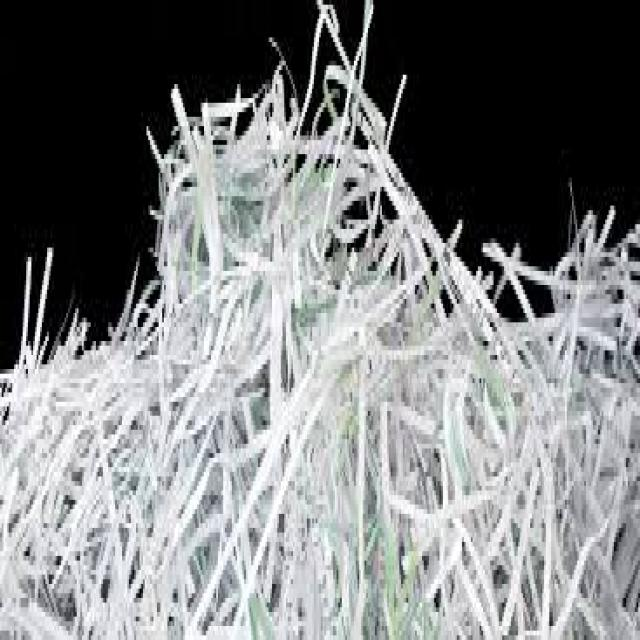paper: (0, 0, 638, 635)
